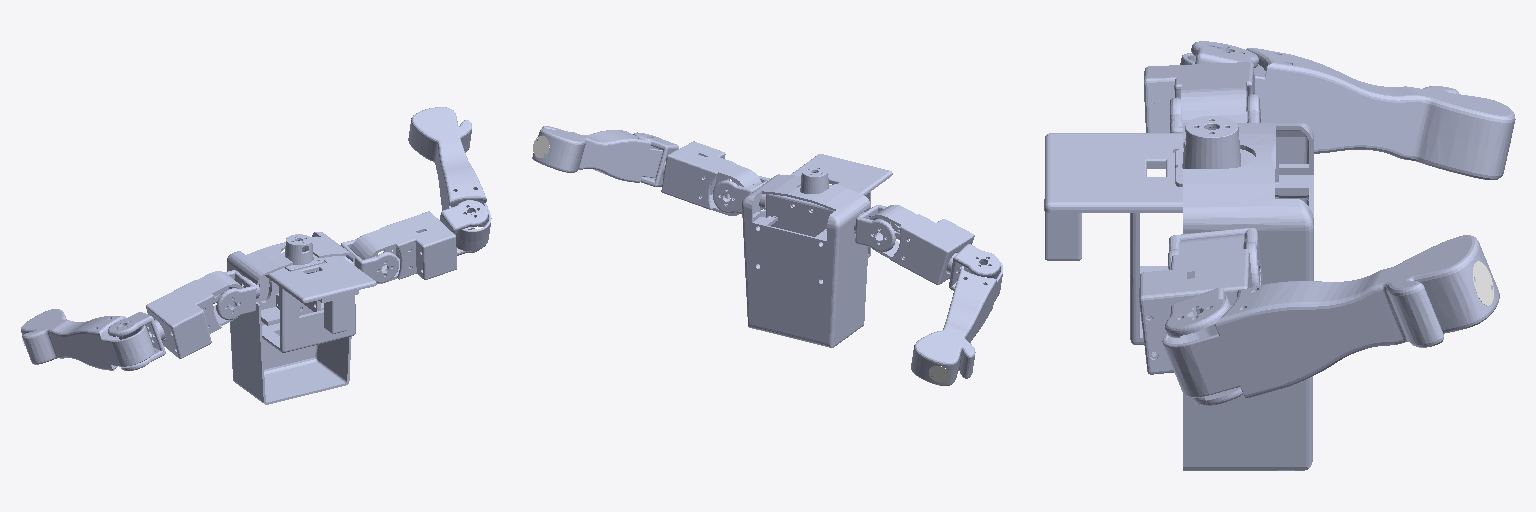
robot.urdf — flov2tag:
<?xml version="1.0" encoding="utf-8" ?>
<!-- This URDF was automatically created by SolidWorks to URDF Exporter! Originally created by [author] ([email redacted]) 
     Commit Version: 1.6.0-4-g7f85cfe  Build Version: 1.6.7995.38578
     For more information, please see http://wiki.ros.org/sw_urdf_exporter -->
<robot name="flov2tag">
    <link name="world" />
    <joint name="base_joint" type="fixed">
        <parent link="world" />
        <child link="base_link" />
        <origin rpy="0 0 0" xyz="0.0 0.0 1" />
    </joint>
    <link name="base_link">
        <inertial>
            <origin xyz="7.53347513647862E-05 -0.0517564322706769 0.103083105603625" rpy="0 0 0" />
            <mass value="0.411096920186486" />
            <inertia ixx="0.000777346761704768" ixy="1.72546357053517E-06" ixz="3.18573945326137E-07" iyy="0.000809189457749476" iyz="4.70818433093878E-05" izz="0.000628127608082685" />
        </inertial>
        <visual>
            <origin xyz="0 0 0" rpy="0 0 0" />
            <geometry>
                <mesh filename="package://flov2tag/meshes/base_link.STL" />
            </geometry>
            <material name="">
                <color rgba="0.792156862745098 0.819607843137255 0.933333333333333 1" />
            </material>
        </visual>
        <collision>
            <origin xyz="0 0 0" rpy="0 0 0" />
            <geometry>
                <mesh filename="package://flov2tag/meshes/base_link.STL" />
            </geometry>
        </collision>
    </link>
    <link name="L1">
        <inertial>
            <origin xyz="1.48905722474613E-09 -1.45844988863608E-09 -0.0155738461318574" rpy="0 0 0" />
            <mass value="0.0215352043212417" />
            <inertia ixx="6.43260429128133E-06" ixy="-1.64918315675543E-11" ixz="1.80617855631626E-13" iyy="1.14424316265306E-05" iyz="-1.4977169211401E-13" izz="8.50517912691032E-06" />
        </inertial>
        <visual>
            <origin xyz="0 0 0" rpy="0 0 0" />
            <geometry>
                <mesh filename="package://flov2tag/meshes/L1.STL" />
            </geometry>
            <material name="">
                <color rgba="0.792156862745098 0.819607843137255 0.933333333333333 1" />
            </material>
        </visual>
        <collision>
            <origin xyz="0 0 0" rpy="0 0 0" />
            <geometry>
                <mesh filename="package://flov2tag/meshes/L1.STL" />
            </geometry>
        </collision>
    </link>
    <joint name="l1" type="revolute">
        <origin xyz="-0.093804 -0.050968 0.1305" rpy="-1.5732 -0.04937 1.5699" />
        <parent link="base_link" />
        <child link="L1" />
        <axis xyz="0 0 -1" />
        <limit lower="-3.14" upper="3.14" effort="100" velocity="1" />
    </joint>
    <link name="L2">
        <inertial>
            <origin xyz="0.0370794722770472 6.01619796232744E-05 -0.00561150495180869" rpy="0 0 0" />
            <mass value="0.14200428130742" />
            <inertia ixx="3.19807041640019E-05" ixy="-4.35443153481225E-08" ixz="2.24405152482658E-06" iyy="6.16420914340457E-05" iyz="9.75980531415953E-10" izz="6.84742357959681E-05" />
        </inertial>
        <visual>
            <origin xyz="0 0 0" rpy="0 0 0" />
            <geometry>
                <mesh filename="package://flov2tag/meshes/L2.STL" />
            </geometry>
            <material name="">
                <color rgba="0.792156862745098 0.819607843137255 0.933333333333333 1" />
            </material>
        </visual>
        <collision>
            <origin xyz="0 0 0" rpy="0 0 0" />
            <geometry>
                <mesh filename="package://flov2tag/meshes/L2.STL" />
            </geometry>
        </collision>
    </link>
    <joint name="l2" type="revolute">
        <origin xyz="0 0 0" rpy="1.57079632679491 -1.30823648462815 1.57079632679489" />
        <parent link="L1" />
        <child link="L2" />
        <axis xyz="0 0 -1" />
        <limit lower="-3.14" upper="3.14" effort="100" velocity="1" />
    </joint>
    <link name="L3">
        <inertial>
            <origin xyz="-6.85686452062129E-10 -1.18321497044604E-09 -0.0155738461320077" rpy="0 0 0" />
            <mass value="0.0215352058948494" />
            <inertia ixx="6.43260450990738E-06" ixy="-1.66741513524277E-11" ixz="-1.99406870351107E-13" iyy="1.14424319738705E-05" iyz="-5.43220634835429E-14" izz="8.50517954548888E-06" />
        </inertial>
        <visual>
            <origin xyz="0 0 0" rpy="0 0 0" />
            <geometry>
                <mesh filename="package://flov2tag/meshes/L3.STL" />
            </geometry>
            <material name="">
                <color rgba="0.792156862745098 0.819607843137255 0.933333333333333 1" />
            </material>
        </visual>
        <collision>
            <origin xyz="0 0 0" rpy="0 0 0" />
            <geometry>
                <mesh filename="package://flov2tag/meshes/L3.STL" />
            </geometry>
        </collision>
    </link>
    <joint name="l3" type="revolute">
        <origin xyz="0.1158 0 -0.00119999999999776" rpy="-1.5707963267949 0.26114885650053 -1.57079632679489" />
        <parent link="L2" />
        <child link="L3" />
        <axis xyz="0 0 -1" />
        <limit lower="-3.14" upper="3.14" effort="100" velocity="1" />
    </joint>
    <link name="L4">
        <inertial>
            <origin xyz="0.0540116223479984 -0.00058620478941096 -0.00011406572389161" rpy="0 0 0" />
            <mass value="0.123994710978818" />
            <inertia ixx="2.55225739121218E-05" ixy="5.69764188850555E-06" ixz="1.26677524651344E-09" iyy="0.000227685871332109" iyz="7.44244239048614E-10" izz="0.000244795391460618" />
        </inertial>
        <visual>
            <origin xyz="0 0 0" rpy="0 0 0" />
            <geometry>
                <mesh filename="package://flov2tag/meshes/L4.STL" />
            </geometry>
            <material name="">
                <color rgba="0.792156862745098 0.819607843137255 0.933333333333333 1" />
            </material>
        </visual>
        <collision>
            <origin xyz="0 0 0" rpy="0 0 0" />
            <geometry>
                <mesh filename="package://flov2tag/meshes/L4.STL" />
            </geometry>
        </collision>
    </link>
    <joint name="l4" type="revolute">
        <origin xyz="0 0 0" rpy="1.5707963267949 -0.30296623022798 -1.5707963267949" />
        <parent link="L3" />
        <child link="L4" />
        <axis xyz="0 0 1" />
        <limit lower="-3.14" upper="3.14" effort="100" velocity="1" />
    </joint>
    <link name="LT">
        <inertial>
            <origin xyz="-2.1094237467878E-15 3.66373598126302E-15 -4.99999999999251E-05" rpy="0 0 0" />
            <mass value="4.4257186507448E-05" />
            <inertia ixx="1.59291210005991E-09" ixy="4.71238898038435E-11" ixz="2.08733857698928E-24" iyy="1.565423164341E-09" iyz="3.43796942092352E-24" izz="3.1582615024234E-09" />
        </inertial>
        <visual>
            <origin xyz="0 0 0" rpy="0 0 0" />
            <geometry>
                <mesh filename="package://flov2tag/meshes/LT.STL" />
            </geometry>
            <material name="">
                <color rgba="1 1 1 1" />
            </material>
        </visual>
        <collision>
            <origin xyz="0 0 0" rpy="0 0 0" />
            <geometry>
                <mesh filename="package://flov2tag/meshes/LT.STL" />
            </geometry>
        </collision>
    </link>
    <joint name="lt" type="revolute">
        <origin xyz="0.16084 0 0" rpy="1.5708 0 1.5708" />
        <parent link="L4" />
        <child link="LT" />
        <axis xyz="0 0 -1" />
        <limit lower="-3.14" upper="3.14" effort="100" velocity="1" />
    </joint>
    <link name="R1">
        <inertial>
            <origin xyz="-7.3101036335288E-10 1.42214115483874E-09 -0.0155738461008337" rpy="0 0 0" />
            <mass value="0.0215352046092187" />
            <inertia ixx="6.43260432556565E-06" ixy="-1.67886054370398E-11" ixz="2.25506499780031E-15" iyy="1.14424316815474E-05" iyz="1.67144531263641E-13" izz="8.50517918879637E-06" />
        </inertial>
        <visual>
            <origin xyz="0 0 0" rpy="0 0 0" />
            <geometry>
                <mesh filename="package://flov2tag/meshes/R1.STL" />
            </geometry>
            <material name="">
                <color rgba="0.792156862745098 0.819607843137255 0.933333333333333 1" />
            </material>
        </visual>
        <collision>
            <origin xyz="0 0 0" rpy="0 0 0" />
            <geometry>
                <mesh filename="package://flov2tag/meshes/R1.STL" />
            </geometry>
        </collision>
    </link>
    <joint name="r1" type="revolute">
        <origin xyz="0.09279510924547 -0.0511557438776884 0.131033556238334" rpy="1.56837759398057 -0.109836205757756 1.5700568280532" />
        <parent link="base_link" />
        <child link="R1" />
        <axis xyz="0 0 -1" />
        <limit lower="-3.14" upper="3.14" effort="100" velocity="1" />
    </joint>
    <link name="R2">
        <inertial>
            <origin xyz="0.0370794698343928 6.01703938903075E-05 -0.00521151070552417" rpy="0 0 0" />
            <mass value="0.142004353704167" />
            <inertia ixx="3.19807296486965E-05" ixy="-4.35327533669279E-08" ixz="2.24405237078302E-06" iyy="6.16421075611623E-05" iyz="9.81607943199515E-10" izz="6.84742805487049E-05" />
        </inertial>
        <visual>
            <origin xyz="0 0 0" rpy="0 0 0" />
            <geometry>
                <mesh filename="package://flov2tag/meshes/R2.STL" />
            </geometry>
            <material name="">
                <color rgba="0.792156862745098 0.819607843137255 0.933333333333333 1" />
            </material>
        </visual>
        <collision>
            <origin xyz="0 0 0" rpy="0 0 0" />
            <geometry>
                <mesh filename="package://flov2tag/meshes/R2.STL" />
            </geometry>
        </collision>
    </link>
    <joint name="r2" type="revolute">
        <origin xyz="0 0 0" rpy="1.57079632679491 -1.47144508321867 1.57079632679488" />
        <parent link="R1" />
        <child link="R2" />
        <axis xyz="0 0 -1" />
        <limit lower="-3.14" upper="3.14" effort="100" velocity="1" />
    </joint>
    <link name="R3">
        <inertial>
            <origin xyz="2.05074301984354E-09 5.46313924654207E-10 -0.0155738455006264" rpy="0 0 0" />
            <mass value="0.0215352048399659" />
            <inertia ixx="6.432604168036E-06" ixy="-1.66648027588443E-11" ixz="6.81152760309558E-14" iyy="1.14424315919614E-05" iyz="-4.79486622218707E-14" izz="8.5051789959427E-06" />
        </inertial>
        <visual>
            <origin xyz="0 0 0" rpy="0 0 0" />
            <geometry>
                <mesh filename="package://flov2tag/meshes/R3.STL" />
            </geometry>
            <material name="">
                <color rgba="0.792156862745098 0.819607843137255 0.933333333333333 1" />
            </material>
        </visual>
        <collision>
            <origin xyz="0 0 0" rpy="0 0 0" />
            <geometry>
                <mesh filename="package://flov2tag/meshes/R3.STL" />
            </geometry>
        </collision>
    </link>
    <joint name="r3" type="revolute">
        <origin xyz="0.115800000000001 0 -0.000800000000004408" rpy="1.5707963267949 -0.26114885650053 1.5707963267949" />
        <parent link="R2" />
        <child link="R3" />
        <axis xyz="0 0 -1" />
        <limit lower="-3.14" upper="3.14" effort="100" velocity="1" />
    </joint>
    <link name="R4">
        <inertial>
            <origin xyz="0.0540120901541251 0.000585955138703967 0.000114212206980158" rpy="0 0 0" />
            <mass value="0.123994478571995" />
            <inertia ixx="2.55222563136458E-05" ixy="-5.697433497379E-06" ixz="-1.15541189210634E-09" iyy="0.000227685021295983" iyz="5.41220980799628E-10" izz="0.000244794757521387" />
        </inertial>
        <visual>
            <origin xyz="0 0 0" rpy="0 0 0" />
            <geometry>
                <mesh filename="package://flov2tag/meshes/R4.STL" />
            </geometry>
            <material name="">
                <color rgba="0.792156862745098 0.819607843137255 0.933333333333333 1" />
            </material>
        </visual>
        <collision>
            <origin xyz="0 0 0" rpy="0 0 0" />
            <geometry>
                <mesh filename="package://flov2tag/meshes/R4.STL" />
            </geometry>
        </collision>
    </link>
    <joint name="r4" type="revolute">
        <origin xyz="0 0 0" rpy="-1.5707963267949 -0.302966230227995 1.5707963267949" />
        <parent link="R3" />
        <child link="R4" />
        <axis xyz="0 0 1" />
        <limit lower="-3.14" upper="3.14" effort="100" velocity="1" />
    </joint>
    <link name="RT">
        <inertial>
            <origin xyz="-1.12505491034476E-14 -3.88578058618805E-16 -5.00000000000778E-05" rpy="0 0 0" />
            <mass value="4.4257186507449E-05" />
            <inertia ixx="1.59291210005995E-09" ixy="-4.71238898038503E-11" ixz="8.7605212335328E-25" iyy="1.56542316434104E-09" iyz="5.84196307615576E-24" izz="3.15826150242347E-09" />
        </inertial>
        <visual>
            <origin xyz="0 0 0" rpy="0 0 0" />
            <geometry>
                <mesh filename="package://flov2tag/meshes/RT.STL" />
            </geometry>
            <material name="">
                <color rgba="1 1 1 1" />
            </material>
        </visual>
        <collision>
            <origin xyz="0 0 0" rpy="0 0 0" />
            <geometry>
                <mesh filename="package://flov2tag/meshes/RT.STL" />
            </geometry>
        </collision>
    </link>
    <joint name="rt" type="revolute">
        <origin xyz="0.16084 0 0" rpy="-1.5708 0 -1.5708" />
        <parent link="R4" />
        <child link="RT" />
        <axis xyz="0 0 -1" />
        <limit lower="-3.14" upper="3.14" effort="100" velocity="1" />
    </joint>
    <transmission name="L1_trans">
        <type>transmission_interface/SimpleTransmission</type>
        <joint name="l1">
            <hardwareInterface>hardware_interface/PositionJointInterface</hardwareInterface>
        </joint>
        <actuator name="L1_motor">
            <hardwareInterface>hardware_interface/PositionJointInterface</hardwareInterface>
            <mechanicalReduction>1</mechanicalReduction>
        </actuator>
    </transmission>
    <transmission name="L2_trans">
        <type>transmission_interface/SimpleTransmission</type>
        <joint name="l2">
            <hardwareInterface>hardware_interface/PositionJointInterface</hardwareInterface>
        </joint>
        <actuator name="L2_motor">
            <hardwareInterface>hardware_interface/PositionJointInterface</hardwareInterface>
            <mechanicalReduction>1</mechanicalReduction>
        </actuator>
    </transmission>
    <transmission name="L3_trans">
        <type>transmission_interface/SimpleTransmission</type>
        <joint name="l3">
            <hardwareInterface>hardware_interface/PositionJointInterface</hardwareInterface>
        </joint>
        <actuator name="L3_motor">
            <hardwareInterface>hardware_interface/PositionJointInterface</hardwareInterface>
            <mechanicalReduction>1</mechanicalReduction>
        </actuator>
    </transmission>
    <transmission name="L4_trans">
        <type>transmission_interface/SimpleTransmission</type>
        <joint name="l4">
            <hardwareInterface>hardware_interface/PositionJointInterface</hardwareInterface>
        </joint>
        <actuator name="L4_motor">
            <hardwareInterface>hardware_interface/PositionJointInterface</hardwareInterface>
            <mechanicalReduction>1</mechanicalReduction>
        </actuator>
    </transmission>
    <transmission name="R1_trans">
        <type>transmission_interface/SimpleTransmission</type>
        <joint name="r1">
            <hardwareInterface>hardware_interface/PositionJointInterface</hardwareInterface>
        </joint>
        <actuator name="R1_motor">
            <hardwareInterface>hardware_interface/PositionJointInterface</hardwareInterface>
            <mechanicalReduction>1</mechanicalReduction>
        </actuator>
    </transmission>
    <transmission name="R2_trans">
        <type>transmission_interface/SimpleTransmission</type>
        <joint name="r2">
            <hardwareInterface>hardware_interface/PositionJointInterface</hardwareInterface>
        </joint>
        <actuator name="R2_motor">
            <hardwareInterface>hardware_interface/PositionJointInterface</hardwareInterface>
            <mechanicalReduction>1</mechanicalReduction>
        </actuator>
    </transmission>
    <transmission name="R3_trans">
        <type>transmission_interface/SimpleTransmission</type>
        <joint name="r3">
            <hardwareInterface>hardware_interface/PositionJointInterface</hardwareInterface>
        </joint>
        <actuator name="R3_motor">
            <hardwareInterface>hardware_interface/PositionJointInterface</hardwareInterface>
            <mechanicalReduction>1</mechanicalReduction>
        </actuator>
    </transmission>
    <transmission name="R4_trans">
        <type>transmission_interface/SimpleTransmission</type>
        <joint name="r4">
            <hardwareInterface>hardware_interface/PositionJointInterface</hardwareInterface>
        </joint>
        <actuator name="R4_motor">
            <hardwareInterface>hardware_interface/PositionJointInterface</hardwareInterface>
            <mechanicalReduction>1</mechanicalReduction>
        </actuator>
    </transmission>
    <transmission name="RT_trans">
        <type>transmission_interface/SimpleTransmission</type>
        <joint name="rt">
            <hardwareInterface>hardware_interface/PositionJointInterface</hardwareInterface>
        </joint>
        <actuator name="RT_motor">
            <hardwareInterface>hardware_interface/PositionJointInterface</hardwareInterface>
            <mechanicalReduction>1</mechanicalReduction>
        </actuator>
    </transmission>
    <transmission name="LT_trans">
        <type>transmission_interface/SimpleTransmission</type>
        <joint name="lt">
            <hardwareInterface>hardware_interface/PositionJointInterface</hardwareInterface>
        </joint>
        <actuator name="LT_motor">
            <hardwareInterface>hardware_interface/PositionJointInterface</hardwareInterface>
            <mechanicalReduction>1</mechanicalReduction>
        </actuator>
    </transmission>
    <gazebo>
        <plugin name="control" filename="libgazebo_ros_control.so">
            <robotNamespace>/</robotNamespace>
        </plugin>
        <plugin name="gazebo_ros_control" filename="libgazebo_ros_control.so">
            <robotNamespace>/</robotNamespace>
        </plugin>
    </gazebo>
    <gazebo reference="L1">
        <selfCollide>true</selfCollide>
    </gazebo>
    <gazebo reference="L2">
        <selfCollide>true</selfCollide>
    </gazebo>
    <gazebo reference="L3">
        <selfCollide>true</selfCollide>
    </gazebo>
    <gazebo reference="L4">
        <selfCollide>true</selfCollide>
    </gazebo>
    <gazebo reference="R1">
        <selfCollide>true</selfCollide>
    </gazebo>
    <gazebo reference="R2">
        <selfCollide>true</selfCollide>
    </gazebo>
    <gazebo reference="R3">
        <selfCollide>true</selfCollide>
    </gazebo>
    <gazebo reference="R4">
        <selfCollide>true</selfCollide>
    </gazebo>
    <gazebo reference="RT">
        <selfCollide>true</selfCollide>
    </gazebo>
    <gazebo reference="LT">
        <selfCollide>true</selfCollide>
    </gazebo>
</robot>

--- Render facts (derived) ---
The picture shows the robot from 3 angles, left to right: view 1: azimuth 30°, elevation 25°; view 2: azimuth 150°, elevation 25°; view 3: azimuth 270°, elevation 25°; orthographic projection.
Model flov2tag with 12 links and 11 joints (10 revolute, 1 fixed), rooted at world, posed every joint at zero.
Visible links, largest first — view 1: base_link, L4, R4, R2, L2, L1, L3, R3, R1; view 2: base_link, L4, R4, L2, R2, L1, L3, R1, R3; view 3: base_link, R4, L4, R2, L2, R3, R1, L3, L1, RT.
Boxes of the visible links, bbox=[...] form: base_link: bbox=[227, 232, 376, 404]; L4: bbox=[21, 309, 153, 370]; R4: bbox=[408, 107, 491, 250]; R2: bbox=[350, 211, 456, 283]; L2: bbox=[146, 271, 243, 358]; L1: bbox=[213, 270, 259, 319]; L3: bbox=[108, 312, 165, 370]; R3: bbox=[440, 200, 487, 255]; R1: bbox=[341, 236, 398, 282]; base_link: bbox=[742, 154, 892, 347]; L4: bbox=[911, 262, 1002, 385]; R4: bbox=[532, 126, 662, 182]; L2: bbox=[869, 205, 974, 284]; R2: bbox=[661, 141, 761, 215]; L1: bbox=[854, 205, 899, 251]; L3: bbox=[946, 244, 999, 290]; R1: bbox=[713, 176, 769, 213]; R3: bbox=[633, 132, 678, 186]; base_link: bbox=[1044, 116, 1313, 470]; R4: bbox=[1162, 235, 1499, 397]; L4: bbox=[1180, 48, 1515, 179]; R2: bbox=[1139, 235, 1252, 374]; L2: bbox=[1144, 62, 1254, 132]; R3: bbox=[1165, 288, 1242, 405]; R1: bbox=[1168, 228, 1262, 286]; L3: bbox=[1191, 41, 1258, 67]; L1: bbox=[1170, 94, 1260, 132]; RT: bbox=[1473, 261, 1493, 305].
Size in the robot's own frame: 0.5406 by 0.247 by 0.2184 metres.
11 mesh visuals loaded from 11 distinct referenced files (11 binary STL).